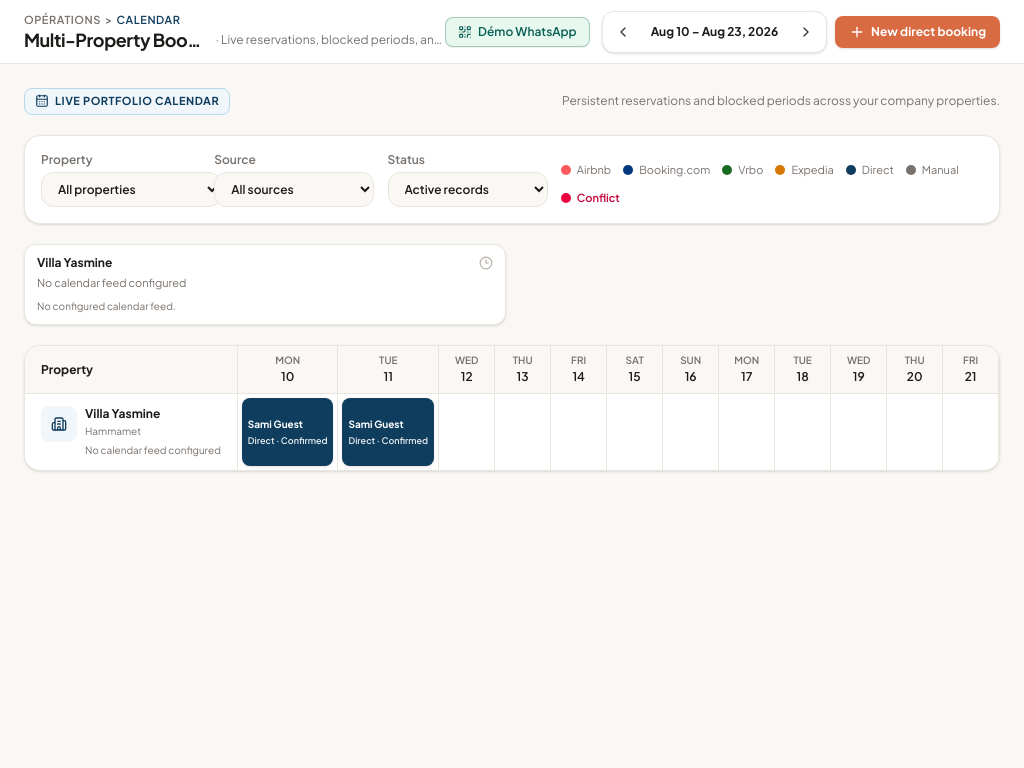
Test: CalendarPage › displays deposit received status and calculates outstanding balance in drawer
Click the 1st button "Sami Guest Direct · Confirmed" at (288, 432), box [242, 398, 334, 466]
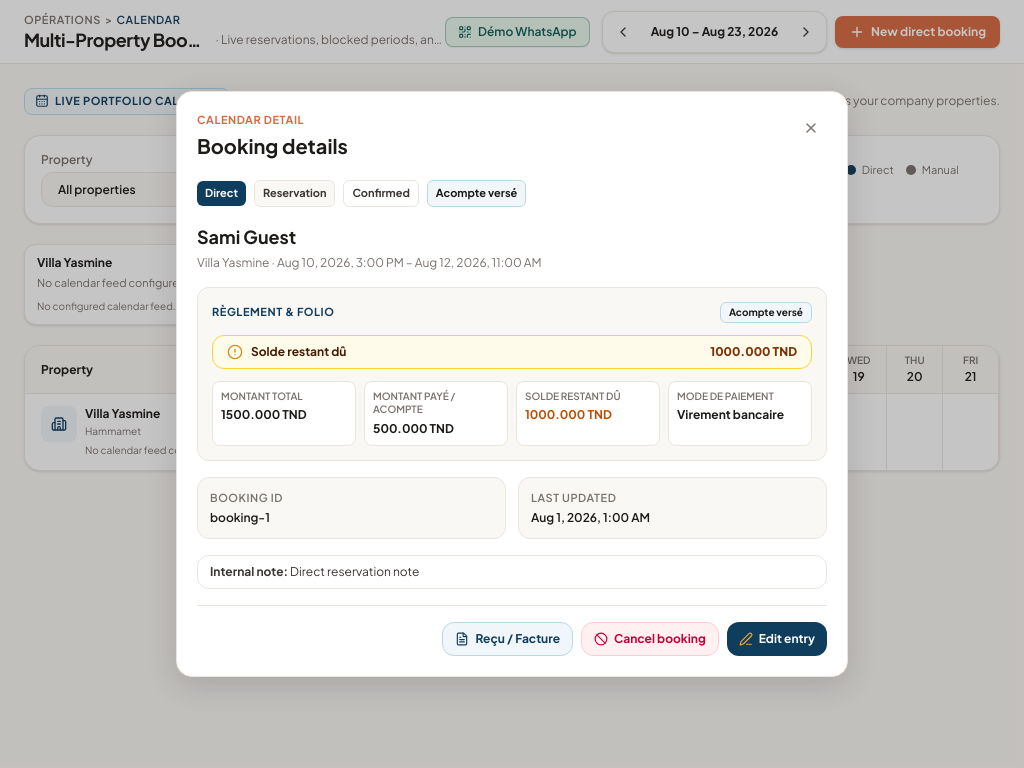
Result: the text with test id "booking-payment-badge" reads "Acompte versé" at [436, 186, 517, 199]
Result: the element with test id "unpaid-balance-callout" shows "1000.000 TND" at [710, 344, 797, 359]
Result: the text "500.000 TND" is shown at [373, 421, 454, 436]
